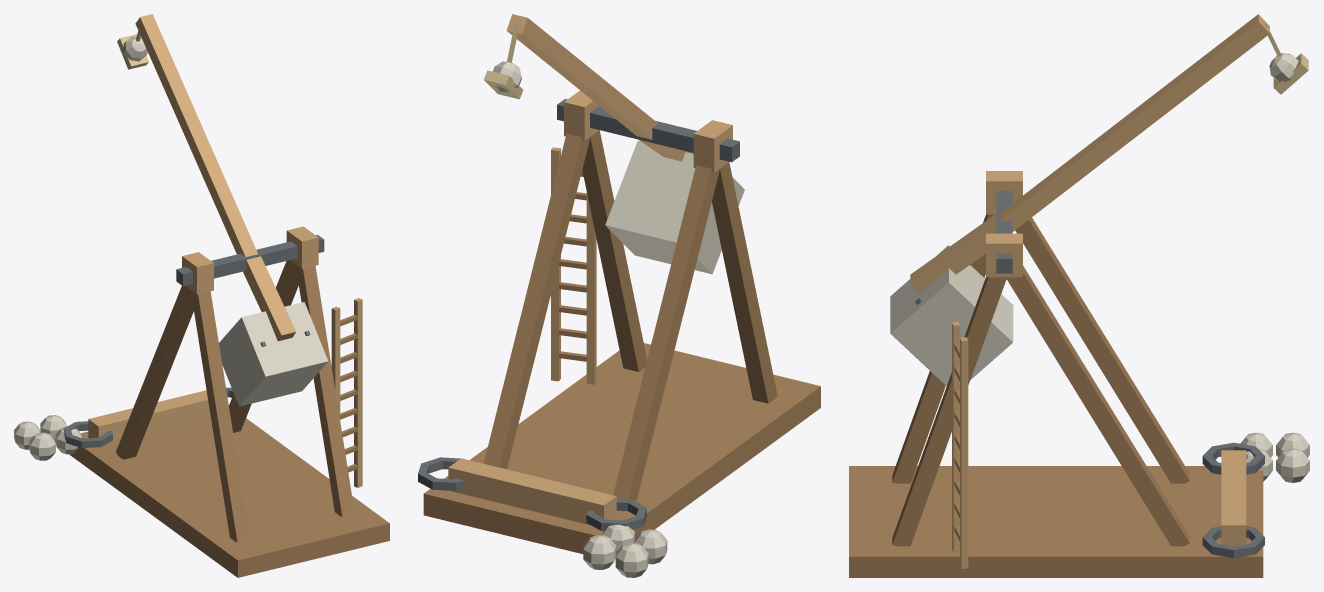
Rendered from counterweight-trebuc.glb.
3 renders of one model, left to right at view 1: azimuth 30°, elevation 25°; view 2: azimuth 150°, elevation 25°; view 3: azimuth 270°, elevation 25°, orthographic. The views are drawn at different scales.
Visible parts, largest first — view 1: counterweight-trebuchet-loosed; view 2: counterweight-trebuchet-loosed; view 3: counterweight-trebuchet-loosed.
Part boxes in pixels (left/top/right/bottom): counterweight-trebuchet-loosed: left=14, top=14, right=389, bottom=577; counterweight-trebuchet-loosed: left=418, top=14, right=820, bottom=577; counterweight-trebuchet-loosed: left=849, top=14, right=1309, bottom=577.
Bounding box in the file's own units: 4.04 × 7.68 × 6.23.
